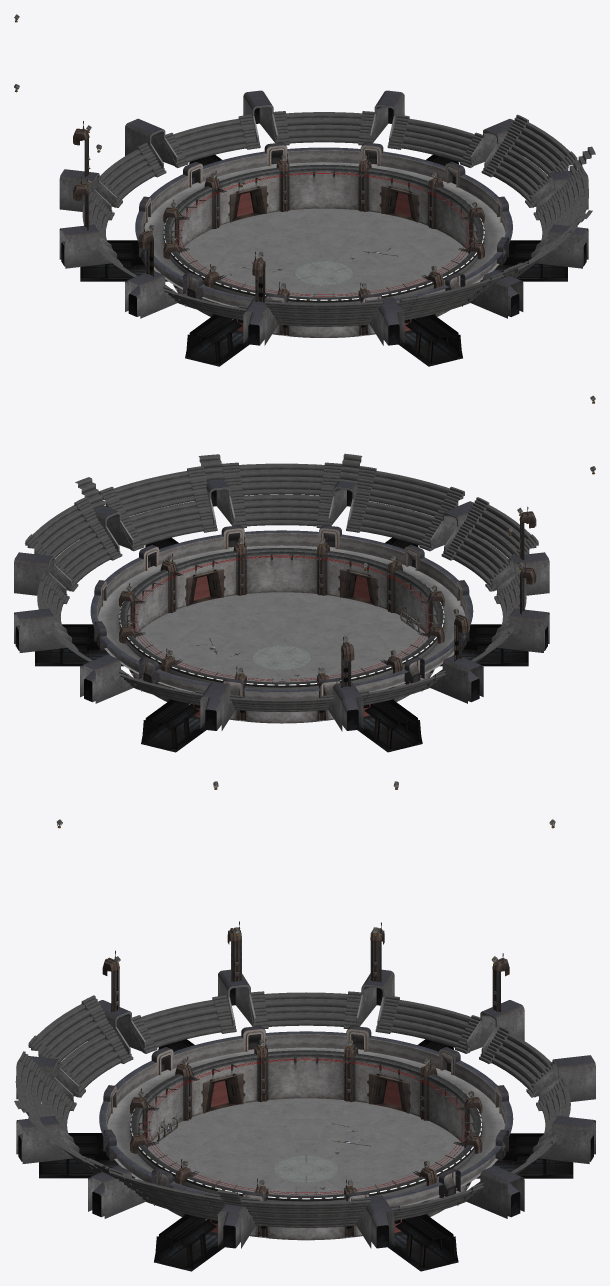
Rendered from env_sha_thepits_pre.glb.
3 views of the same model, one above another, from view 1: azimuth 30°, elevation 25°; view 2: azimuth 150°, elevation 25°; view 3: azimuth 270°, elevation 25° (orthographic). The views are drawn at different scales.
Visible parts, largest first — view 1: sha_thepits_floor_01 (×2), sha_thepits_arc_02 (×6), sha_thepits_hallway (×4), sha_thepits_stairs_01a (×3), sha_thepits_floor_01 (1) (×2), sha_thepits_wall_01 (×3), sha_thepits_stairs_01a (2) (×2), sha_thepits_wall_01 (1) (×2), sha_thepits_wall_02 (×3), sha_thepits_arc_02 (1) (×2), sha_thepits_stairs_01a (3) (×2), sha_thepits_stairs_01a (1) (×3) (+19 smaller); view 2: sha_thepits_floor_01 (×2), sha_thepits_arc_02 (×6), sha_thepits_hallway (×4), sha_thepits_floor_01 (1) (×2), sha_thepits_stairs_01a (1) (×3), sha_thepits_stairs_01a (4) (×2), sha_thepits_stairs_01a (3) (×2), sha_thepits_wall_01 (×3), sha_thepits_stairs_01a (6), sha_thepits_wall_01 (1) (×2), sha_thepits_wall_01 (2), sha_thepits_stairs_01a (7) (+26 smaller); view 3: sha_thepits_floor_01 (1) (×2), sha_thepits_hallway (×4), sha_thepits_arc_02 (×6), sha_thepits_wall_01 (×3), sha_thepits_stairs_01a (1) (×3), sha_thepits_stairs_01a (×3), sha_thepits_stairs_01a (2) (×2), sha_thepits_wall_02 (×3), sha_thepits_wall_01 (1) (×2), sha_thepits_arc_02 (1) (×2), sha_thepits_floor_01 (×2), sha_thepits_stairs_01a (3) (×2) (+18 smaller).
Boxes of the visible parts, <box> form: sha_thepits_floor_01 (×2): <box>248,208,468,319</box>; sha_thepits_arc_02 (×6): <box>59,90,523,345</box>; sha_thepits_hallway (×4): <box>80,240,567,366</box>; sha_thepits_stairs_01a (×3): <box>161,114,485,320</box>; sha_thepits_floor_01 (1) (×2): <box>175,217,369,337</box>; sha_thepits_wall_01 (×3): <box>154,162,371,337</box>; sha_thepits_stairs_01a (2) (×2): <box>271,111,550,207</box>; sha_thepits_wall_01 (1) (×2): <box>148,184,500,249</box>; sha_thepits_wall_02 (×3): <box>143,164,433,335</box>; sha_thepits_arc_02 (1) (×2): <box>243,90,588,268</box>; sha_thepits_stairs_01a (3) (×2): <box>97,143,483,320</box>; sha_thepits_stairs_01a (1) (×3): <box>82,189,565,326</box>; sha_thepits_floor_01 (×2): <box>131,592,358,704</box>; sha_thepits_arc_02 (×6): <box>14,476,549,731</box>; sha_thepits_hallway (×4): <box>35,624,528,752</box>; sha_thepits_floor_01 (1) (×2): <box>237,601,434,723</box>; sha_thepits_stairs_01a (1) (×3): <box>118,497,511,705</box>; sha_thepits_stairs_01a (4) (×2): <box>228,493,538,558</box>; sha_thepits_stairs_01a (3) (×2): <box>229,497,445,711</box>; sha_thepits_wall_01 (×3): <box>104,567,460,701</box>; sha_thepits_stairs_01a (6): <box>221,462,342,495</box>; sha_thepits_wall_01 (1) (×2): <box>103,567,318,723</box>; sha_thepits_wall_01 (2): <box>233,545,329,593</box>; sha_thepits_stairs_01a (7): <box>355,466,464,517</box>; sha_thepits_floor_01 (1) (×2): <box>148,1098,464,1169</box>; sha_thepits_hallway (×4): <box>39,1133,573,1271</box>; sha_thepits_arc_02 (×6): <box>16,969,524,1218</box>; sha_thepits_wall_01 (×3): <box>113,1047,497,1216</box>; sha_thepits_stairs_01a (1) (×3): <box>57,995,482,1220</box>; sha_thepits_stairs_01a (×3): <box>129,995,570,1220</box>; sha_thepits_stairs_01a (2) (×2): <box>248,991,363,1227</box>; sha_thepits_wall_02 (×3): <box>107,1049,504,1184</box>; sha_thepits_wall_01 (1) (×2): <box>266,1071,499,1240</box>; sha_thepits_arc_02 (1) (×2): <box>88,1116,595,1218</box>; sha_thepits_floor_01 (×2): <box>175,1169,469,1240</box>; sha_thepits_stairs_01a (3) (×2): <box>41,1026,554,1143</box>.
Size of the model in its own units: 62.12 by 26.38 by 56.6.
17 materials, 17 textured.
